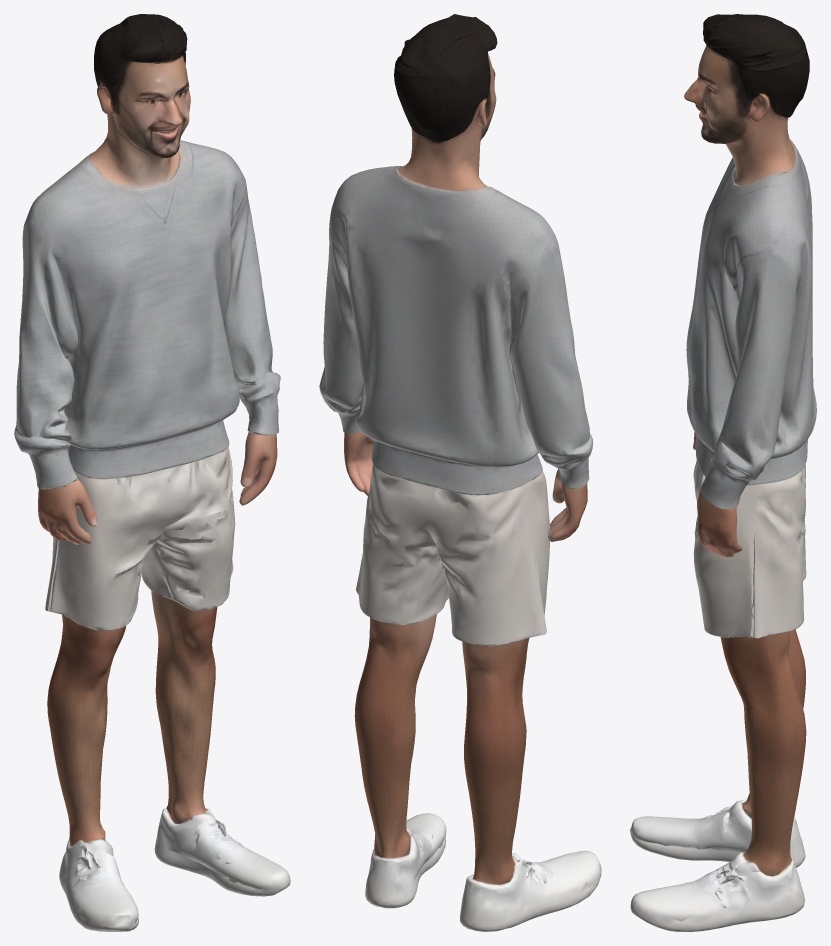
The model's file is person_02.glb.
3 renders of one model, left to right at view 1: azimuth 30°, elevation 25°; view 2: azimuth 150°, elevation 25°; view 3: azimuth 270°, elevation 25°, orthographic.
Parts seen in each view (by area): view 1: Mesh; view 2: Mesh; view 3: Mesh.
Boxes of the visible parts, box(x1,y1,x2,y2) form: Mesh: box(14, 14, 290, 931); Mesh: box(319, 14, 601, 931); Mesh: box(630, 14, 816, 931).
Bounding box in the file's own units: 0.5981 × 1.9 × 0.3675.
1 material, 1 textured.
